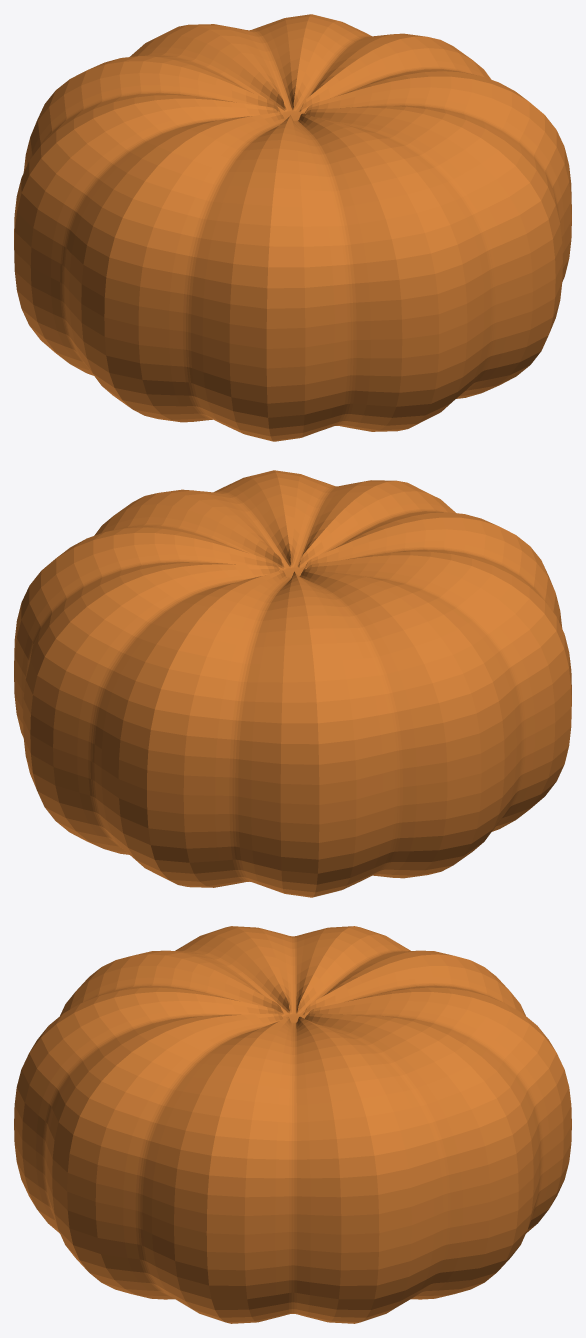
The model's file is orange.fbx.
The picture shows the model from 3 angles, top to bottom: view 1: azimuth 30°, elevation 25°; view 2: azimuth 150°, elevation 25°; view 3: azimuth 270°, elevation 25°; orthographic projection. The views are drawn at different scales.
Parts seen in each view (by area): view 1: 円.001; view 2: 円.001; view 3: 円.001.
Part boxes in pixels (x1,y1,x2,y2): 円.001: [14, 14, 571, 441]; 円.001: [14, 470, 571, 897]; 円.001: [14, 926, 571, 1323].
Bounding box in the file's own units: 193 × 109 × 206.
